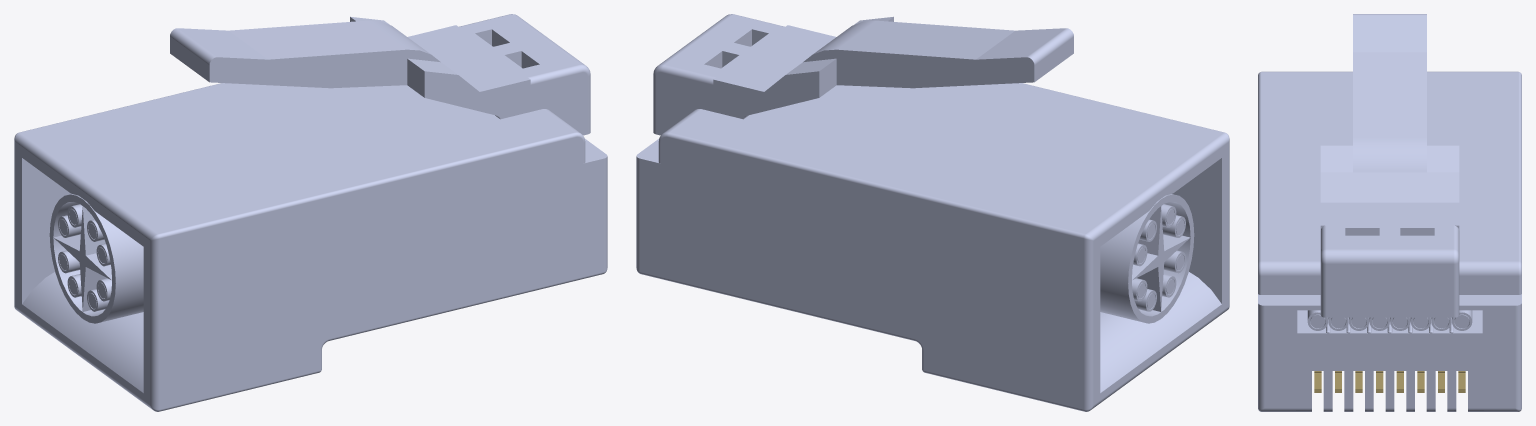
Rendered from Ethrnet connector.fbx.
3 views of the same model, side by side, from view 1: azimuth 30°, elevation 25°; view 2: azimuth 150°, elevation 25°; view 3: azimuth 270°, elevation 25° (orthographic). The views are drawn at different scales.
Parts seen in each view (by area): view 1: LPattern3, Boss-Extrude1, CirPattern1; view 2: LPattern3, Boss-Extrude1, CirPattern1; view 3: LPattern3.
Boxes of the visible parts, box(x1,y1,x2,y2) form: LPattern3: box(14, 14, 607, 411); Boss-Extrude1: box(49, 194, 143, 323); CirPattern1: box(53, 206, 111, 311); LPattern3: box(636, 14, 1229, 411); Boss-Extrude1: box(1100, 194, 1194, 323); CirPattern1: box(1132, 206, 1190, 311); LPattern3: box(1258, 14, 1521, 411).
Bounding box in the file's own units: 0.878 × 0.5297 × 0.4567.
